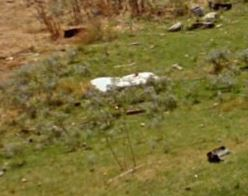trash: (87, 70, 173, 95), (203, 141, 231, 164)
